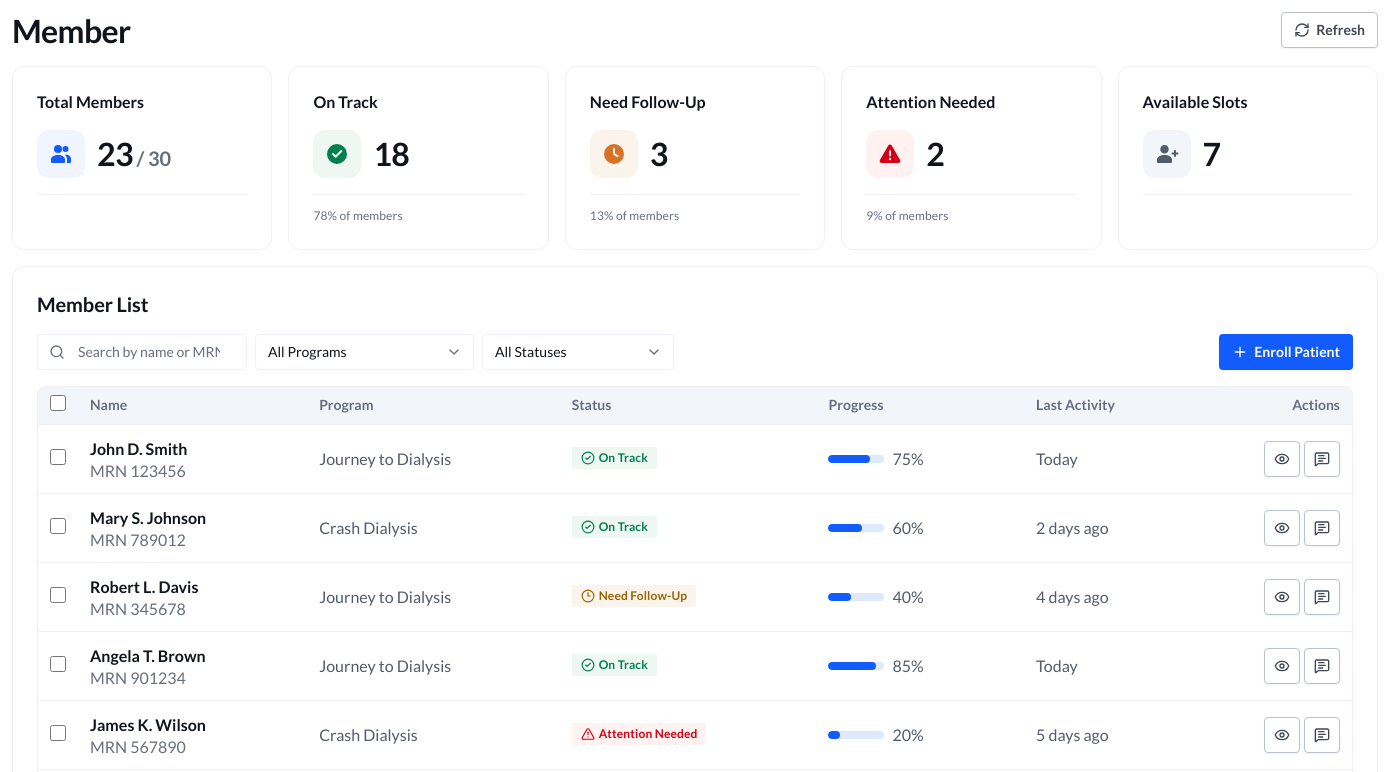
Test: filtering from the page › narrows the table from the status select, and writes it to the URL
Select "Need Follow-Up" in the dropdown named "Status". click: (578, 352)
box: [482,334,674,370]
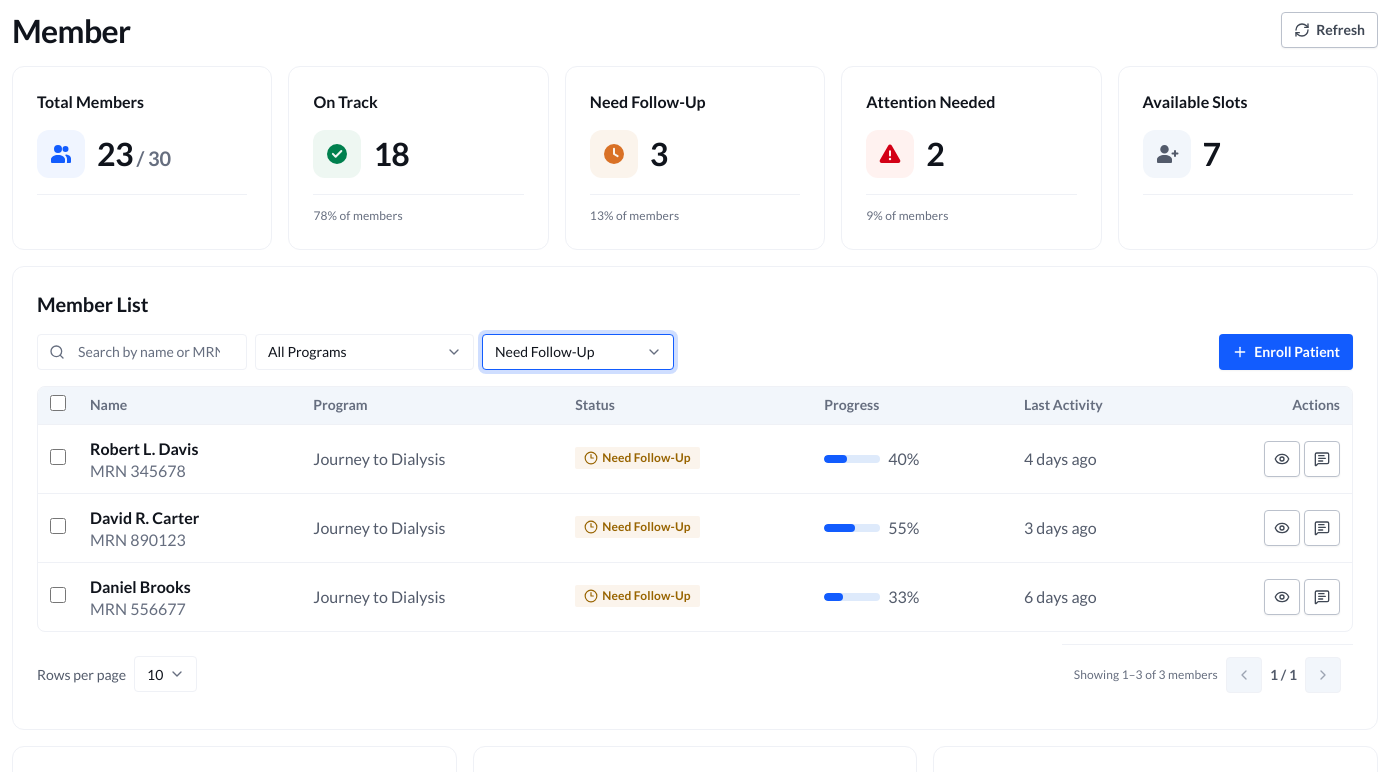
Result: the text "Showing 1–3 of 3 members" is shown at [1074,666,1218,684]
